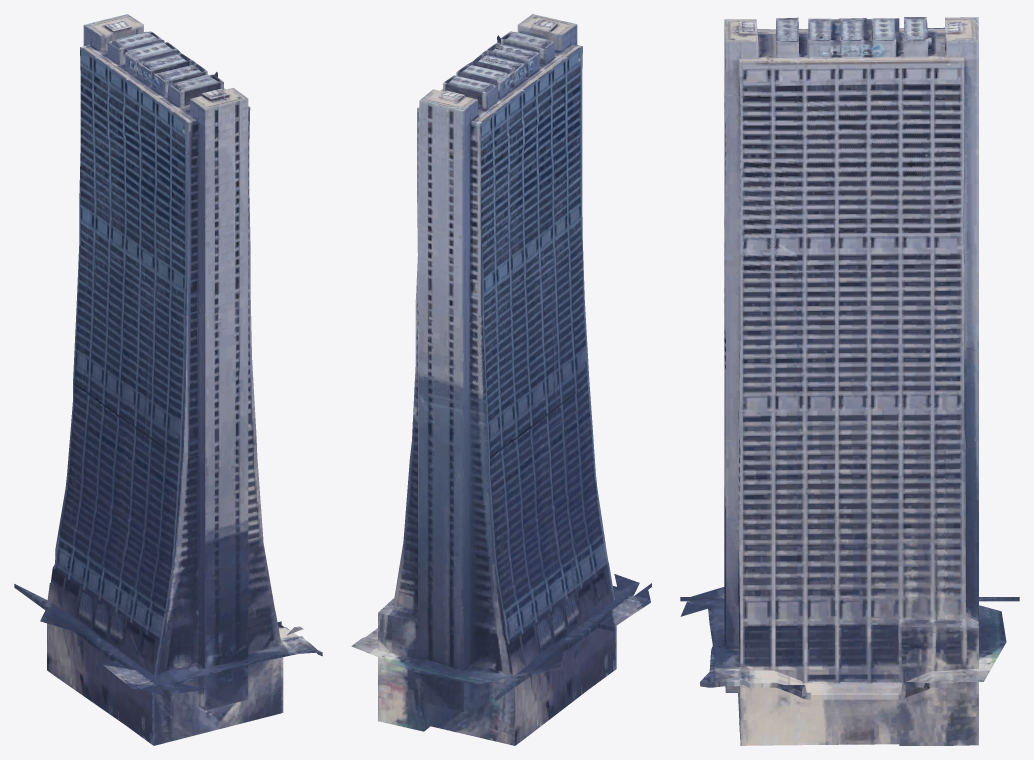
File: chase_tower.glb
3 views of the same model, side by side, from view 1: azimuth 30°, elevation 25°; view 2: azimuth 150°, elevation 25°; view 3: azimuth 270°, elevation 25° (orthographic). The views are drawn at different scales.
Parts seen in each view (by area): view 1: BuildingMesh_417_BuildingMat_00118_0, BuildingMesh_417_BuildingMat_00096_0, BuildingMesh_417_BuildingMat_00167_0, BuildingMesh_417_BuildingMat_00097_0, BuildingMesh_417_BuildingMat_00092_0, BuildingMesh_417_BuildingMat_00075_0, BuildingMesh_417_BuildingMat_00138_0, BuildingMesh_417_BuildingMat_00168_0; view 2: BuildingMesh_417_BuildingMat_00118_0, BuildingMesh_417_BuildingMat_00092_0, BuildingMesh_417_BuildingMat_00096_0, BuildingMesh_417_BuildingMat_00075_0, BuildingMesh_417_BuildingMat_00138_0, BuildingMesh_417_BuildingMat_00167_0, BuildingMesh_417_BuildingMat_00097_0, BuildingMesh_417_BuildingMat_00168_0; view 3: BuildingMesh_417_BuildingMat_00118_0, BuildingMesh_417_BuildingMat_00096_0, BuildingMesh_417_BuildingMat_00167_0, BuildingMesh_417_BuildingMat_00092_0, BuildingMesh_417_BuildingMat_00075_0, BuildingMesh_417_BuildingMat_00097_0, BuildingMesh_417_BuildingMat_00138_0, BuildingMesh_417_BuildingMat_00168_0.
Part boxes in pixels (bbox=[...]): BuildingMesh_417_BuildingMat_00118_0: bbox=[63, 245, 275, 639]; BuildingMesh_417_BuildingMat_00096_0: bbox=[87, 31, 250, 317]; BuildingMesh_417_BuildingMat_00167_0: bbox=[40, 570, 322, 745]; BuildingMesh_417_BuildingMat_00097_0: bbox=[107, 31, 248, 157]; BuildingMesh_417_BuildingMat_00092_0: bbox=[55, 239, 87, 569]; BuildingMesh_417_BuildingMat_00075_0: bbox=[79, 14, 143, 244]; BuildingMesh_417_BuildingMat_00138_0: bbox=[14, 564, 62, 675]; BuildingMesh_417_BuildingMat_00168_0: bbox=[41, 609, 298, 664]; BuildingMesh_417_BuildingMat_00118_0: bbox=[392, 239, 608, 632]; BuildingMesh_417_BuildingMat_00092_0: bbox=[378, 299, 515, 640]; BuildingMesh_417_BuildingMat_00096_0: bbox=[440, 19, 582, 309]; BuildingMesh_417_BuildingMat_00075_0: bbox=[416, 89, 490, 318]; BuildingMesh_417_BuildingMat_00138_0: bbox=[351, 615, 529, 745]; BuildingMesh_417_BuildingMat_00167_0: bbox=[369, 562, 651, 739]; BuildingMesh_417_BuildingMat_00097_0: bbox=[448, 14, 577, 108]; BuildingMesh_417_BuildingMat_00168_0: bbox=[529, 620, 597, 678]; BuildingMesh_417_BuildingMat_00118_0: bbox=[724, 247, 946, 632]; BuildingMesh_417_BuildingMat_00096_0: bbox=[724, 17, 946, 271]; BuildingMesh_417_BuildingMat_00167_0: bbox=[680, 587, 946, 745]; BuildingMesh_417_BuildingMat_00092_0: bbox=[945, 266, 978, 632]; BuildingMesh_417_BuildingMat_00075_0: bbox=[945, 17, 978, 270]; BuildingMesh_417_BuildingMat_00097_0: bbox=[724, 17, 928, 127]; BuildingMesh_417_BuildingMat_00138_0: bbox=[945, 597, 1019, 745]; BuildingMesh_417_BuildingMat_00168_0: bbox=[709, 645, 944, 697].
Bounding box in the file's own units: 1.41 × 4.67 × 2.08.
8 materials, 8 textured.
